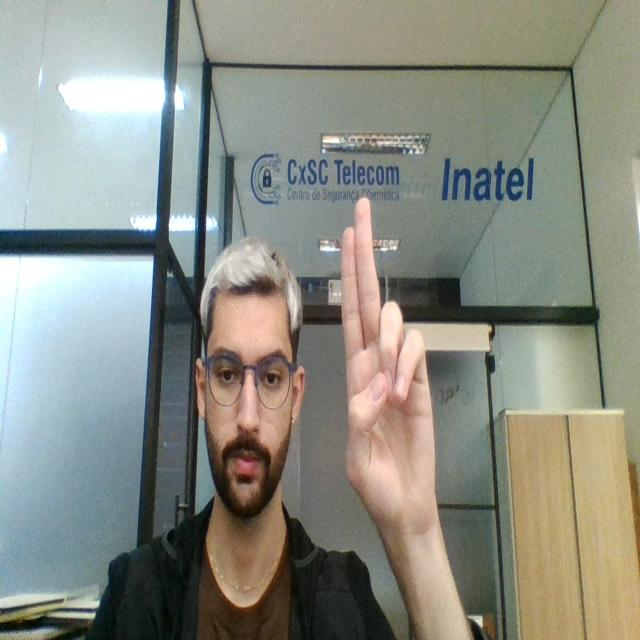U: (334, 192, 440, 530)
